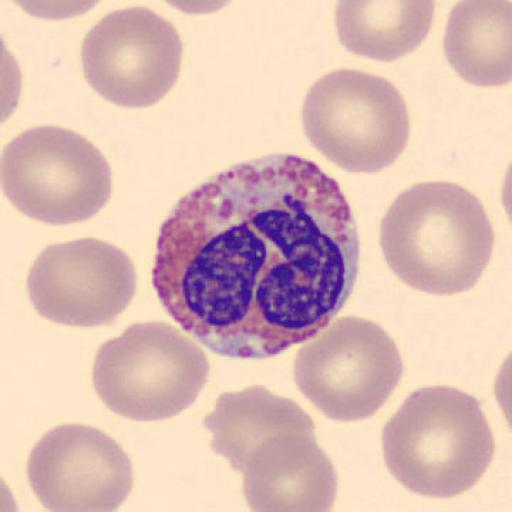RBC: (378, 178, 496, 298), (380, 382, 496, 501), (89, 319, 211, 424), (290, 313, 404, 425), (298, 66, 412, 178), (2, 124, 115, 230), (24, 233, 140, 331), (79, 3, 184, 111), (205, 383, 318, 479), (24, 420, 135, 512), (240, 431, 339, 512), (333, 0, 438, 65), (441, 0, 512, 90), (0, 36, 24, 128), (7, 0, 111, 21), (492, 344, 512, 444), (151, 0, 246, 17), (493, 352, 512, 434), (499, 149, 512, 229), (0, 471, 20, 512)
WBC: (148, 156, 364, 360)
